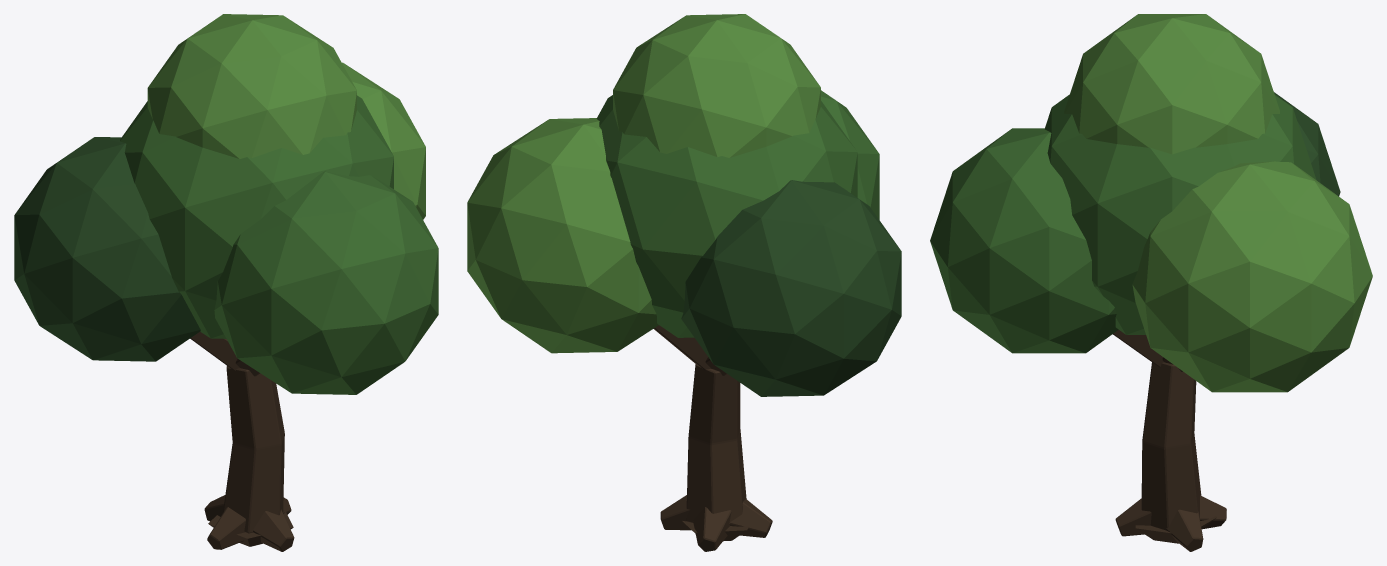
The picture shows the model from 3 angles, left to right: view 1: azimuth 30°, elevation 25°; view 2: azimuth 150°, elevation 25°; view 3: azimuth 270°, elevation 25°; orthographic projection.
Parts seen in each view (by area): view 1: mdvl_farm_apple_tree_01_0; view 2: mdvl_farm_apple_tree_01_0; view 3: mdvl_farm_apple_tree_01_0.
Part boxes in pixels (x1=…): mdvl_farm_apple_tree_01_0: x1=14, y1=14, x2=438, y2=551; mdvl_farm_apple_tree_01_0: x1=467, y1=14, x2=901, y2=551; mdvl_farm_apple_tree_01_0: x1=930, y1=14, x2=1372, y2=551.
Bounding box in the file's own units: 3.6 × 4.4 × 3.42.
1 material, 1 textured.
